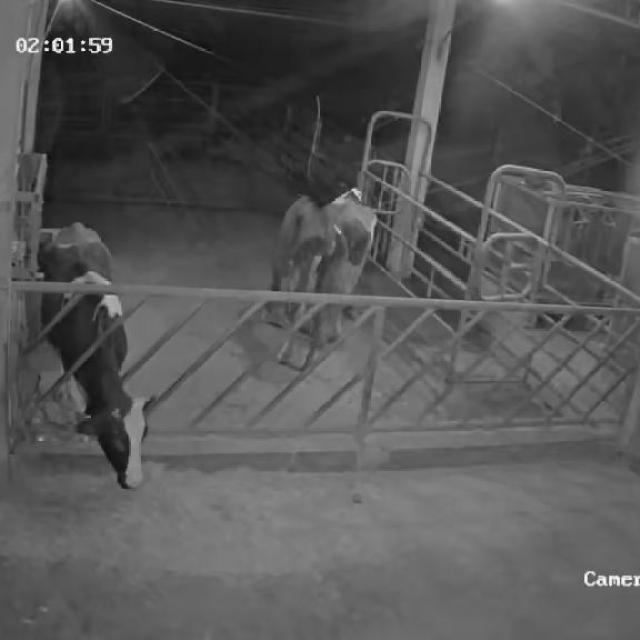feeding: (26, 211, 154, 493)
standing: (274, 194, 350, 388), (321, 181, 380, 345)
